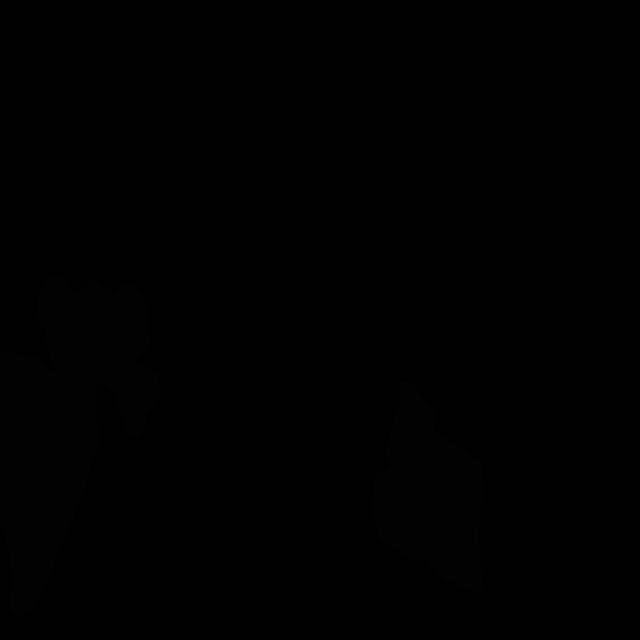cardboard: (0, 275, 160, 617), (372, 381, 485, 593)
